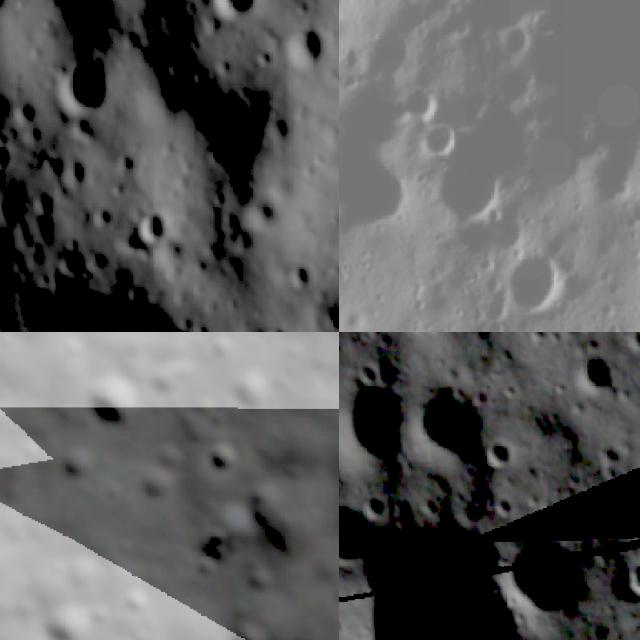crater: (396, 0, 640, 193), (339, 506, 542, 640), (0, 260, 250, 332), (396, 376, 502, 486), (493, 524, 591, 629), (339, 375, 420, 477), (71, 356, 152, 439), (54, 47, 124, 123), (500, 244, 571, 318), (218, 359, 290, 426), (173, 532, 238, 592), (339, 491, 385, 575), (564, 345, 623, 405), (29, 591, 98, 640), (191, 426, 246, 481), (237, 185, 290, 242), (471, 429, 527, 481), (281, 24, 334, 76), (128, 200, 173, 255), (348, 348, 390, 397), (283, 248, 321, 298), (401, 72, 436, 124), (426, 114, 463, 162), (23, 184, 66, 225), (218, 615, 284, 640), (613, 548, 640, 609), (497, 20, 534, 61), (208, 0, 264, 22), (0, 137, 23, 180), (258, 314, 298, 332)
